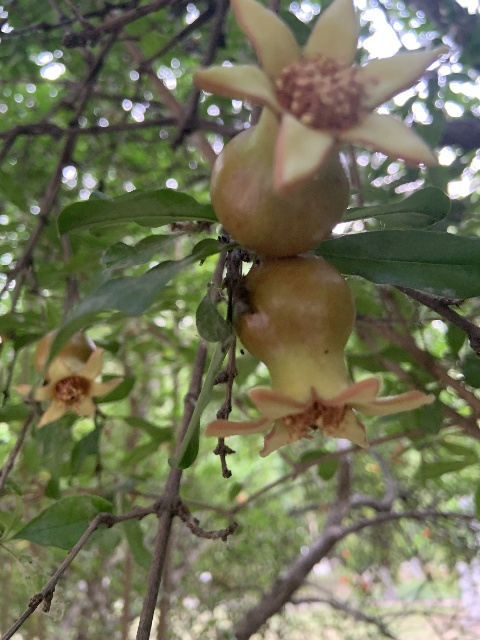early-fruit: (194, 0, 450, 263), (204, 255, 433, 459), (13, 330, 125, 429)
